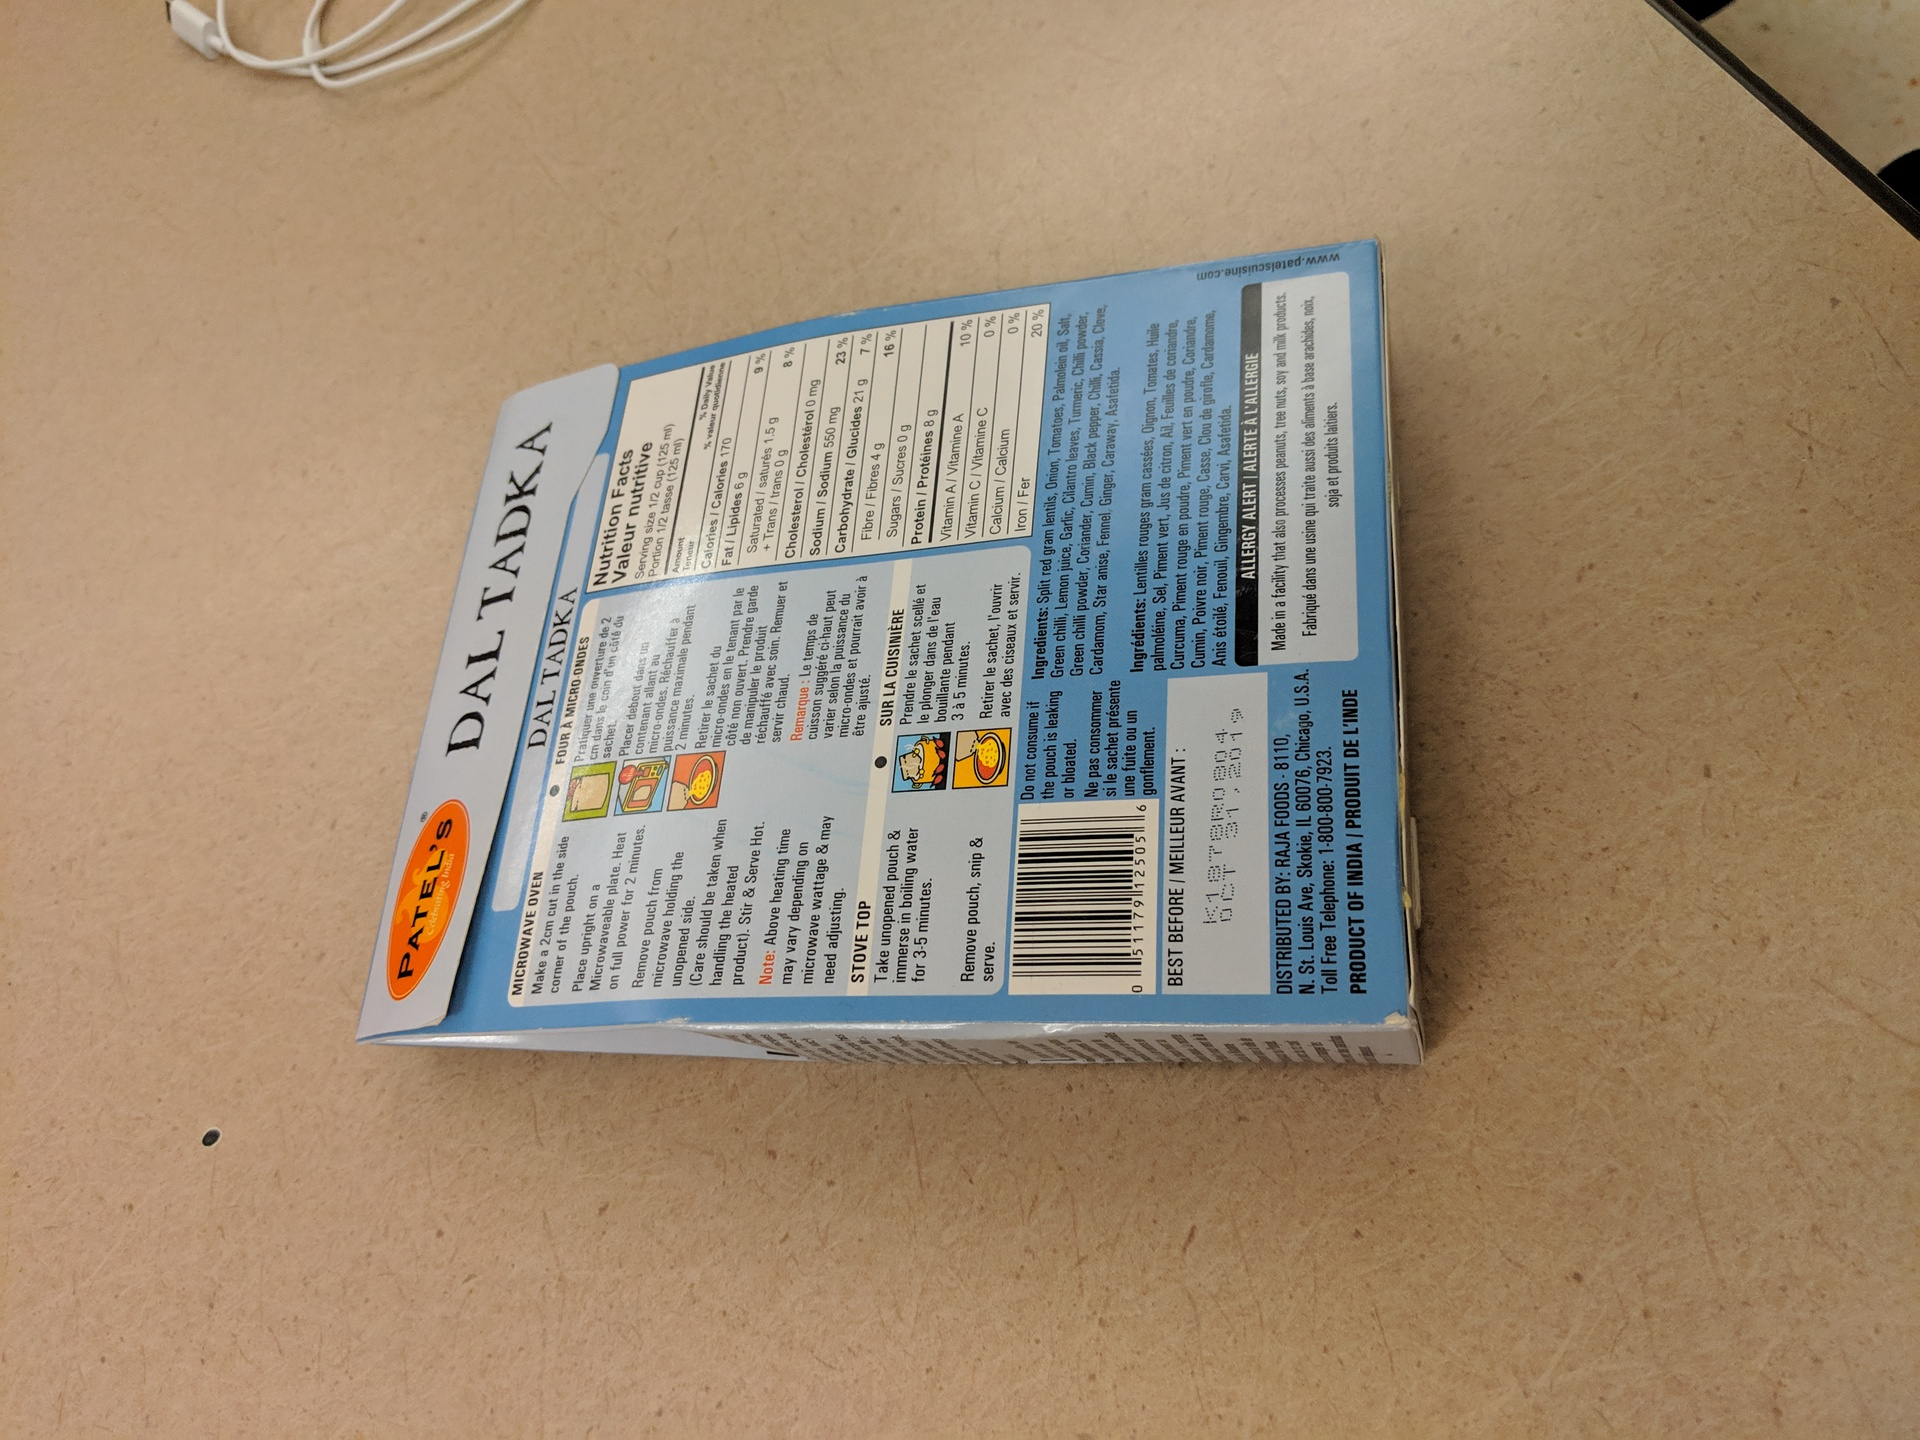patels_dal_tadka_lentil_curry: (343, 231, 1421, 1075)
